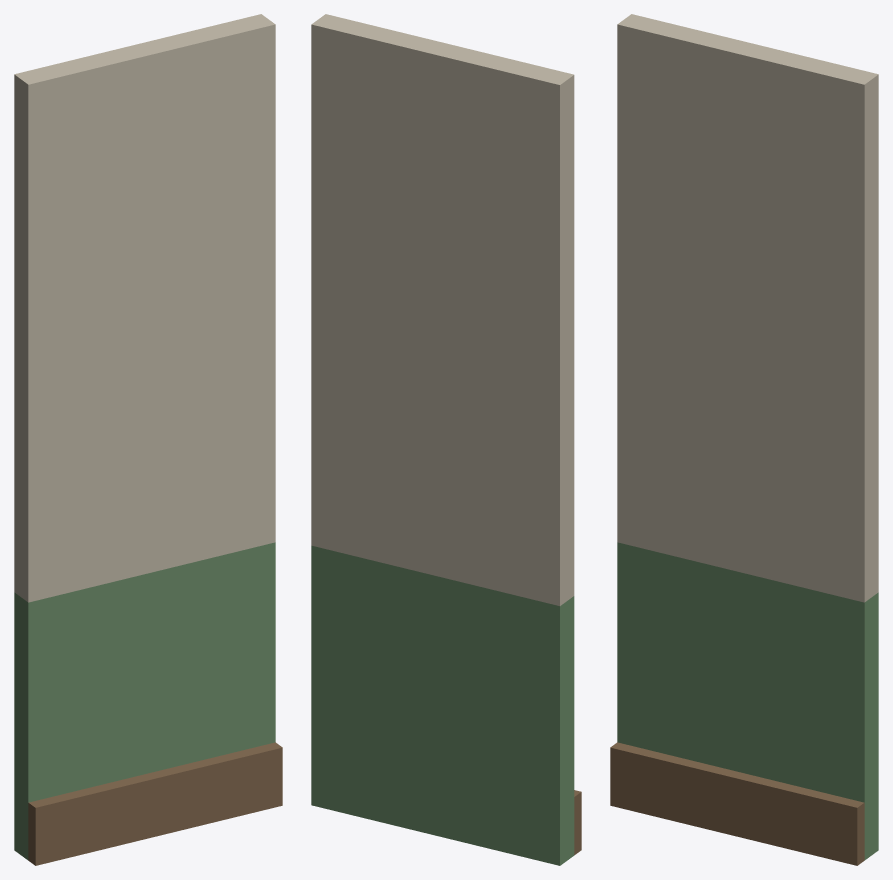
Rendered from Mesh_WallBaseboard2Colors_E1.fbx.
3 renders of one model, left to right at view 1: azimuth 30°, elevation 25°; view 2: azimuth 150°, elevation 25°; view 3: azimuth 330°, elevation 25°, orthographic.
Parts seen in each view (by area): view 1: Mesh_WallBaseboard2Colors_E1; view 2: Mesh_WallBaseboard2Colors_E1; view 3: Mesh_WallBaseboard2Colors_E1.
Part boxes in pixels (x1=…): Mesh_WallBaseboard2Colors_E1: x1=14, y1=14, x2=282, y2=865; Mesh_WallBaseboard2Colors_E1: x1=311, y1=14, x2=581, y2=865; Mesh_WallBaseboard2Colors_E1: x1=610, y1=14, x2=878, y2=865.
Bounding box in the file's own units: 1 × 3 × 0.15.
